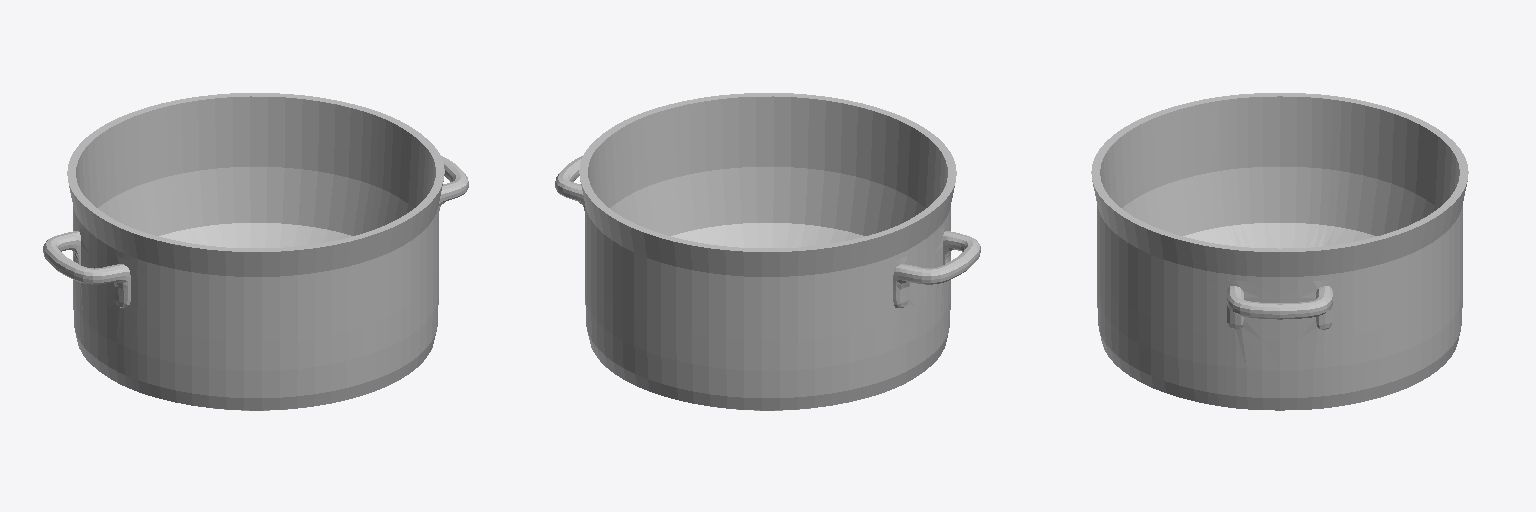
File: pot.obj
3 renders of one model, left to right at view 1: azimuth 30°, elevation 25°; view 2: azimuth 150°, elevation 25°; view 3: azimuth 270°, elevation 25°, orthographic.
Visible parts, largest first — view 1: pot_Cylinder.002; view 2: pot_Cylinder.002; view 3: pot_Cylinder.002.
Boxes of the visible parts, <box> form: pot_Cylinder.002: <box>43,93,468,410</box>; pot_Cylinder.002: <box>555,93,980,410</box>; pot_Cylinder.002: <box>1091,93,1468,410</box>.
Bounding box in the file's own units: 10.04 × 4 × 8.19.